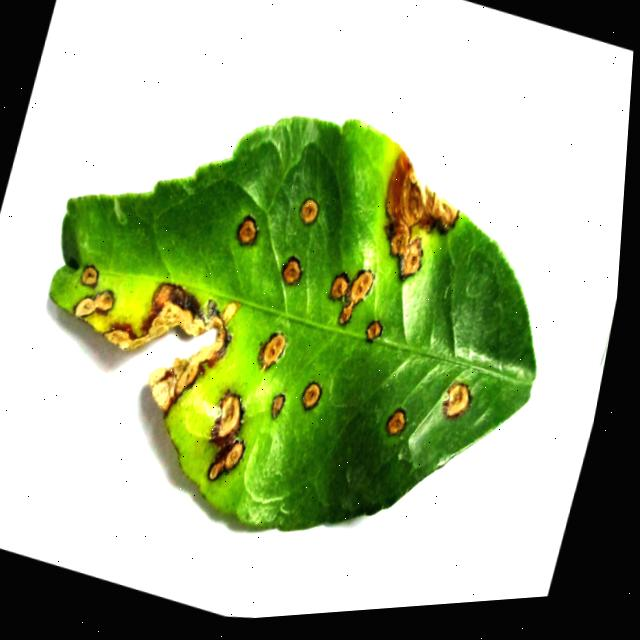antracnose: (50, 117, 536, 530), (104, 284, 240, 411), (386, 152, 459, 279), (208, 389, 243, 480), (339, 269, 374, 324), (443, 382, 470, 418), (262, 333, 285, 368), (237, 215, 257, 245), (282, 256, 302, 284), (386, 408, 406, 435), (302, 381, 321, 409), (330, 273, 349, 299), (300, 198, 318, 224), (74, 297, 96, 316), (95, 290, 114, 312), (80, 265, 98, 286), (366, 320, 382, 342), (271, 393, 285, 417)
